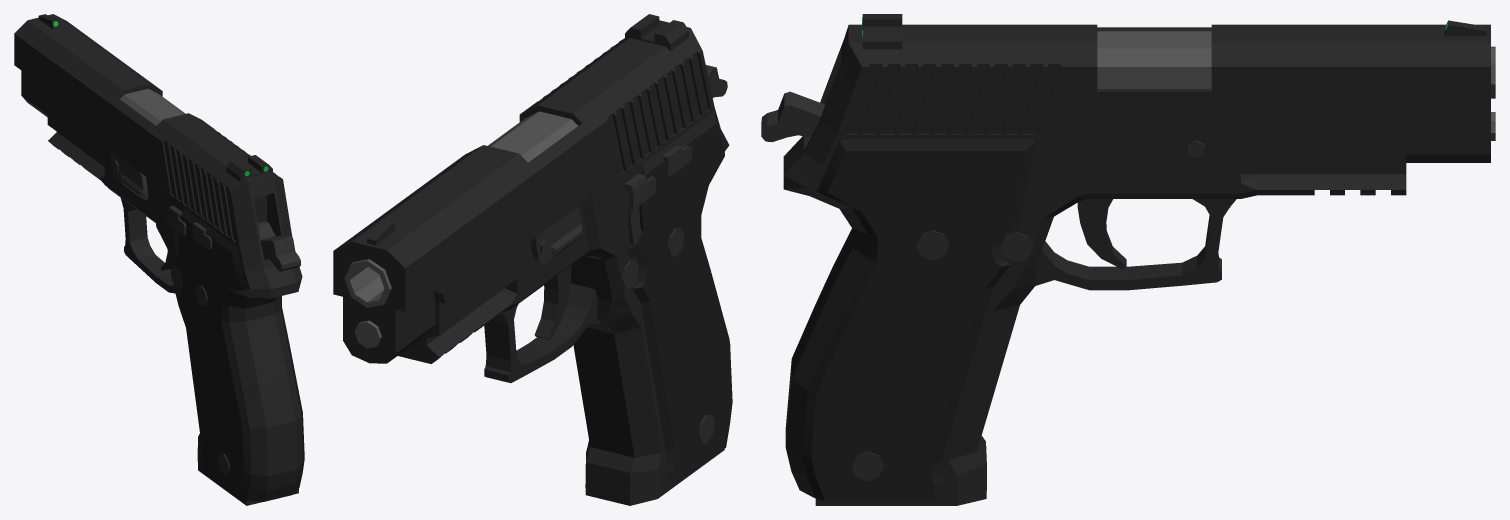
The model's file is gun.glb.
3 views of the same model, side by side, from view 1: azimuth 30°, elevation 25°; view 2: azimuth 150°, elevation 25°; view 3: azimuth 270°, elevation 25° (orthographic). The views are drawn at different scales.
Parts seen in each view (by area): view 1: slide, Body, Grip_Left, Hammer, Barrel, Component_3, Rear_Sight, Component_2, Grip_Right, Component_1; view 2: slide, Body, Grip_Left, Barrel, Component_3, Trigger, Rear_Sight, Magazine, Component_2, Component_1, Spring; view 3: slide, Grip_Right, Body, Barrel, Hammer, Trigger, Rear_Sight, Magazine.
Part boxes in pixels (x1,y1,x2,y2): slide: (14, 14, 291, 245); Body: (47, 105, 303, 501); Grip_Left: (174, 209, 250, 500); Hammer: (258, 221, 300, 271); Barrel: (120, 88, 185, 125); Component_3: (110, 151, 148, 199); Rear_Sight: (226, 155, 272, 181); Component_2: (167, 205, 186, 235); Grip_Right: (281, 296, 304, 487); Component_1: (193, 222, 212, 249); slide: (333, 20, 714, 363); Body: (398, 106, 729, 498); Grip_Left: (628, 112, 732, 487); Barrel: (344, 111, 577, 307); Component_3: (531, 207, 582, 265); Trigger: (534, 265, 571, 339); Rear_Sight: (625, 14, 688, 51); Magazine: (585, 146, 724, 505); Component_2: (624, 174, 656, 209); Component_1: (662, 145, 691, 175); Spring: (354, 320, 381, 348); slide: (823, 24, 1490, 162); Grip_Right: (802, 139, 1036, 501); Body: (783, 94, 1406, 498); Barrel: (1097, 31, 1495, 98); Hammer: (761, 91, 824, 142); Trigger: (1077, 199, 1126, 269); Rear_Sight: (862, 14, 902, 49); Magazine: (815, 133, 1036, 505).
Size of the model in its own units: 0.0271 by 0.1293 by 0.1851.
1 material, 1 textured.
